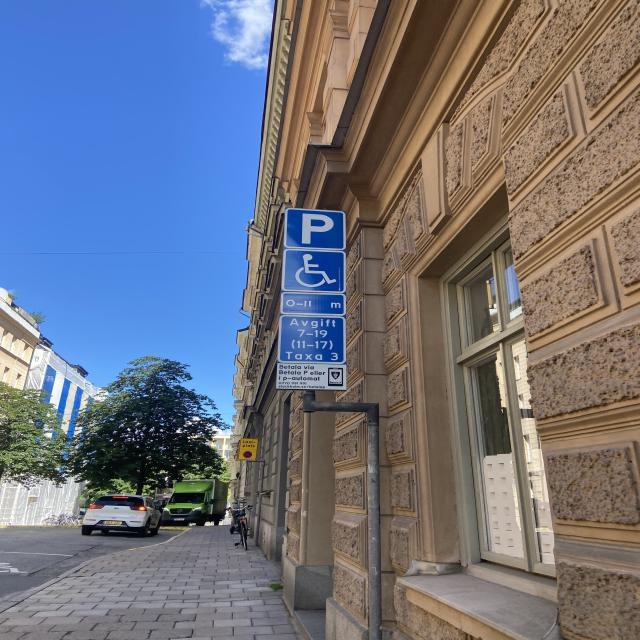P-skylt: (286, 206, 346, 252)
